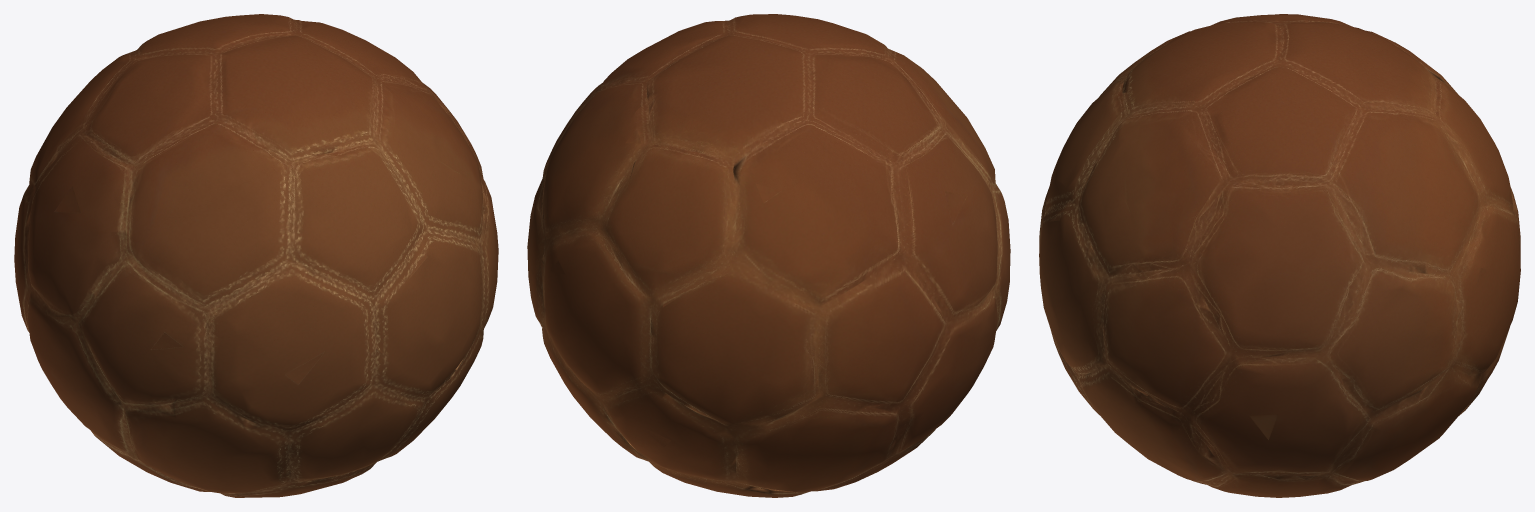
File: Ball_Patchwork.glb
3 renders of one model, left to right at view 1: azimuth 30°, elevation 25°; view 2: azimuth 150°, elevation 25°; view 3: azimuth 270°, elevation 25°, orthographic.
Parts seen in each view (by area): view 1: mesh_node; view 2: mesh_node; view 3: mesh_node.
Boxes of the visible parts, x1,y1,x2,y2 form: mesh_node: (14, 14, 498, 497); mesh_node: (527, 14, 1010, 497); mesh_node: (1039, 14, 1520, 497).
Bounding box in the file's own units: 0.2201 × 0.22 × 0.2202.
Materials: 1 (1 with a texture image).
